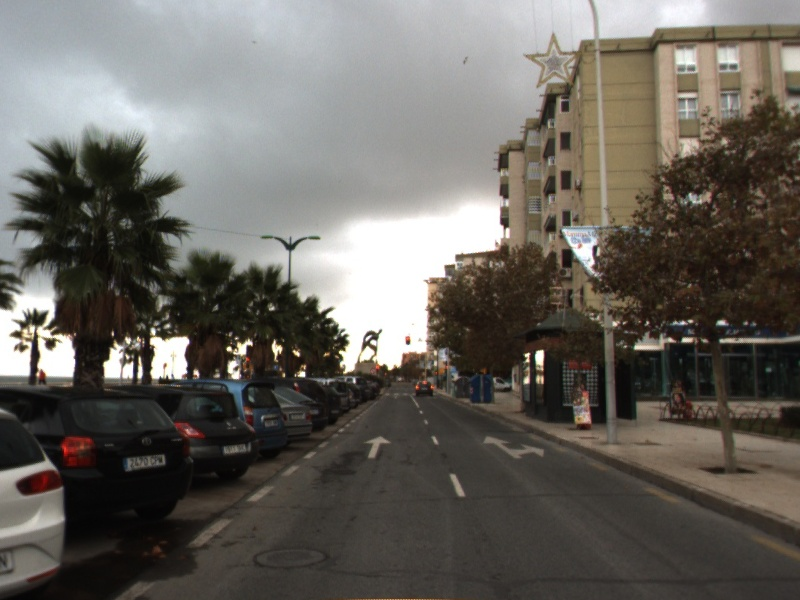STRAIGHT: (362, 434, 393, 460)
STRAIGHT_RIGHT: (481, 434, 546, 460)
